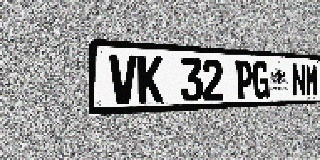2: (203, 59, 223, 101)
3: (181, 58, 203, 102)
G: (253, 61, 269, 99)
K: (138, 56, 163, 103)
M: (305, 64, 318, 97)
N: (292, 63, 306, 97)
P: (235, 60, 253, 99)
V: (109, 54, 137, 104)
